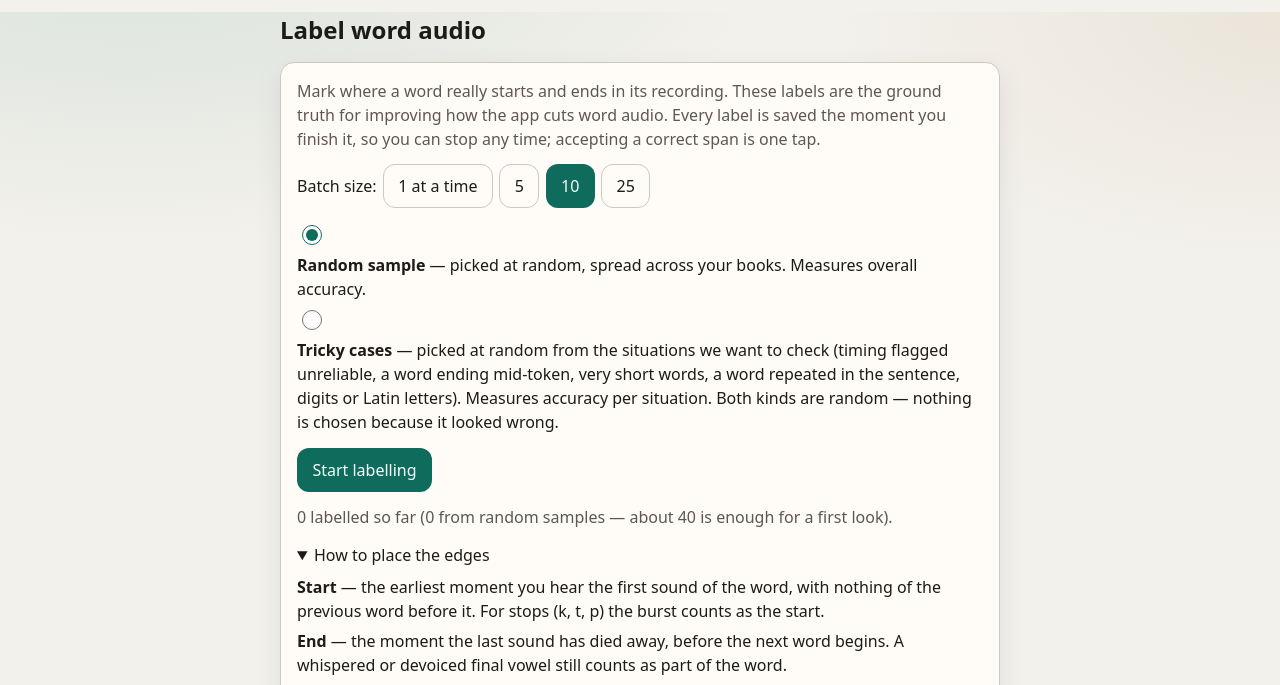
Test case: LabelWordAudioPage › sampling situations › says so when nothing in the pool is tricky
Step 1. Click the radio button labelled "Tricky cases" → (312, 320), box x1=302 y1=310 x2=322 y2=330
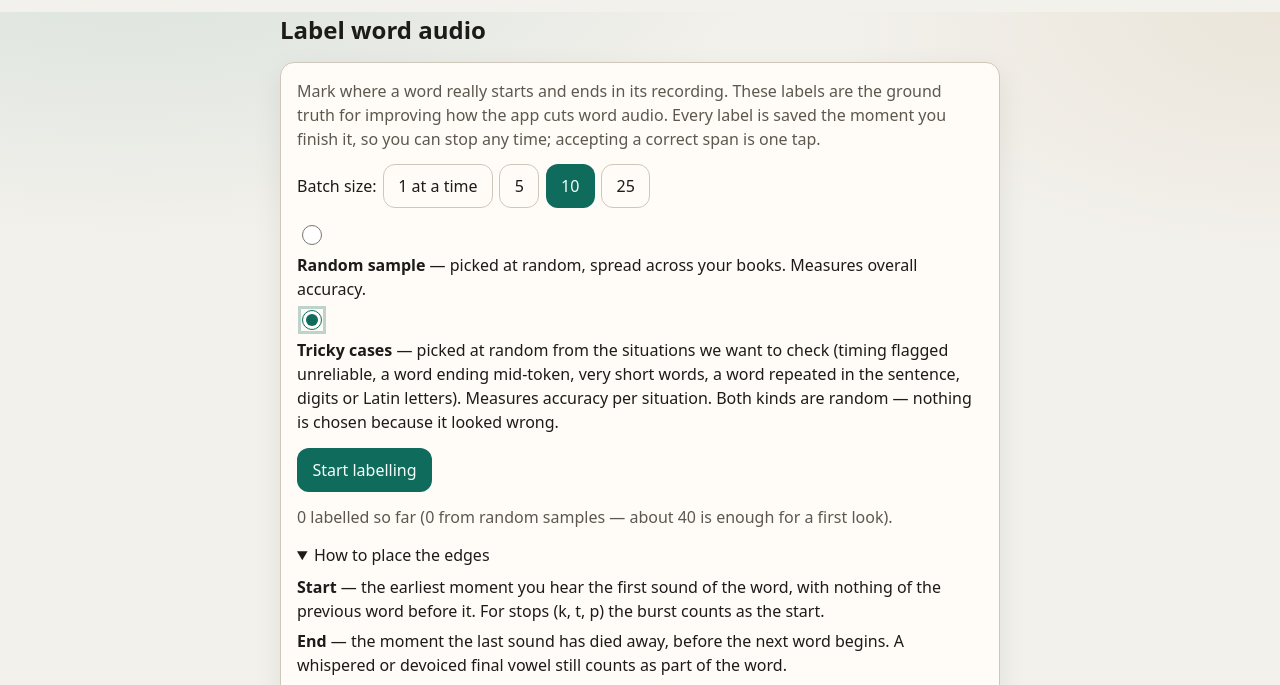
Step 2. Click the button "Start labelling" → (364, 470), box x1=297 y1=448 x2=432 y2=492
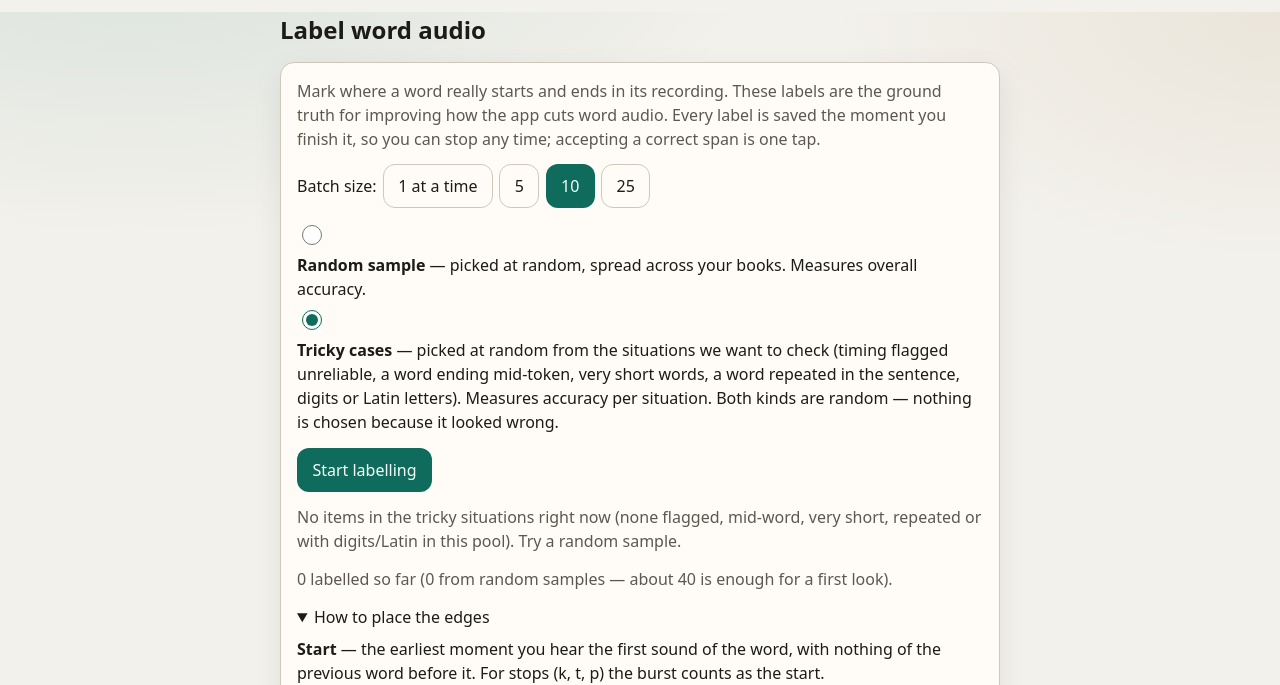
Now the text "No items in the tricky situations" is shown, box x1=297 y1=506 x2=981 y2=552
